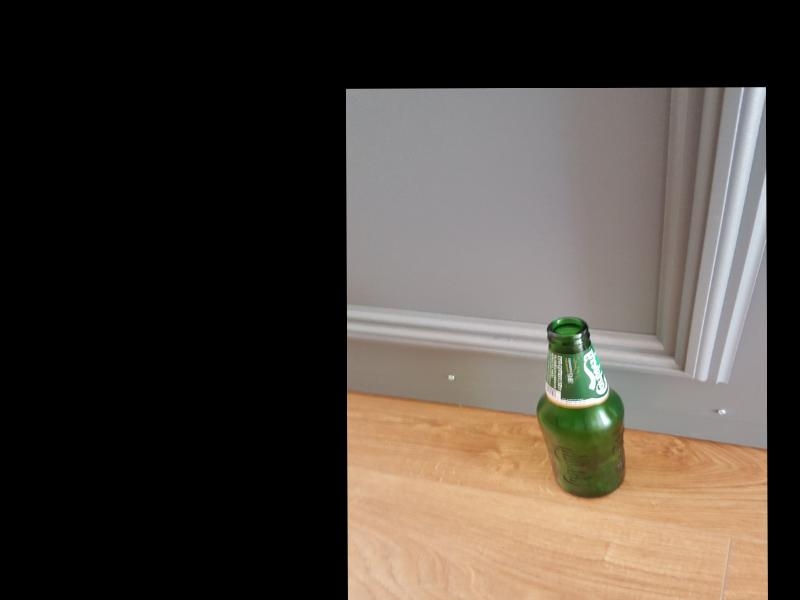Beer: (535, 317, 626, 499)
